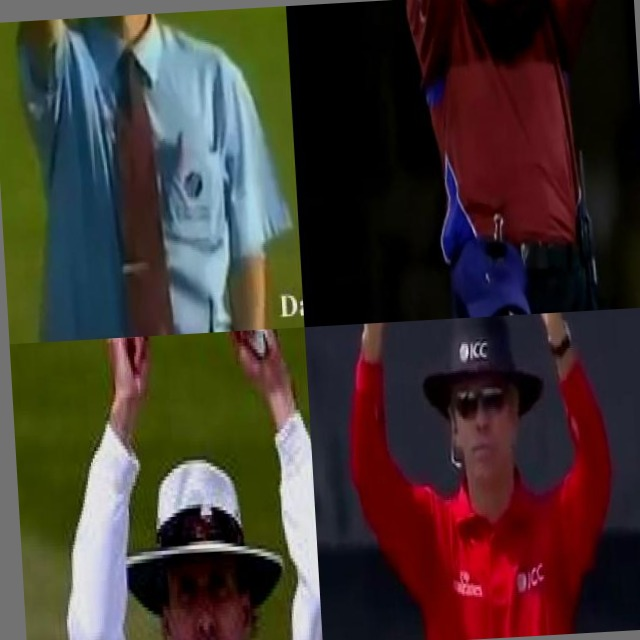Out: (9, 7, 291, 343)
Six: (339, 310, 620, 640), (36, 327, 323, 640), (398, 0, 623, 321)
